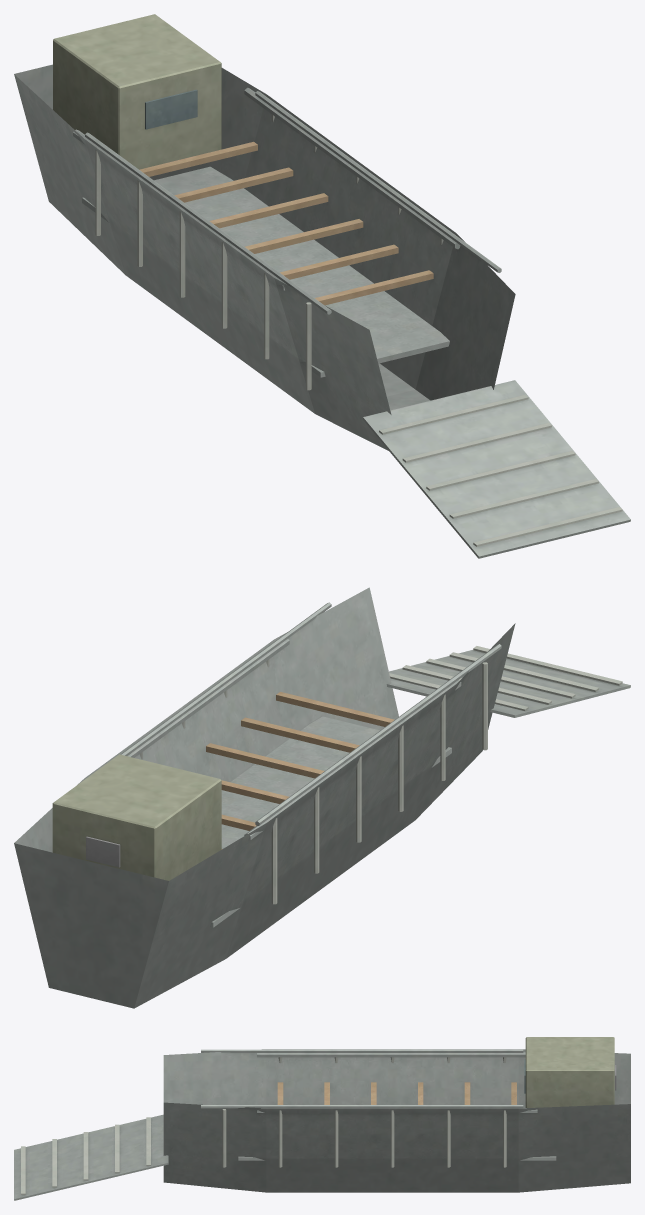
The model's file is landing-modern.glb.
The picture shows the model from 3 angles, top to bottom: view 1: azimuth 30°, elevation 25°; view 2: azimuth 150°, elevation 25°; view 3: azimuth 270°, elevation 25°; orthographic projection. The views are drawn at different scales.
Parts seen in each view (by area): view 1: LOD0; view 2: LOD0; view 3: LOD0.
Boxes of the visible parts, x1,y1,x2,y2 form: LOD0: [14, 14, 630, 558]; LOD0: [14, 587, 630, 1008]; LOD0: [14, 1037, 630, 1200].
Size of what is drawn, in the model's own units: 0.3 by 0.29 by 1.32.
2 materials, 2 textured.
